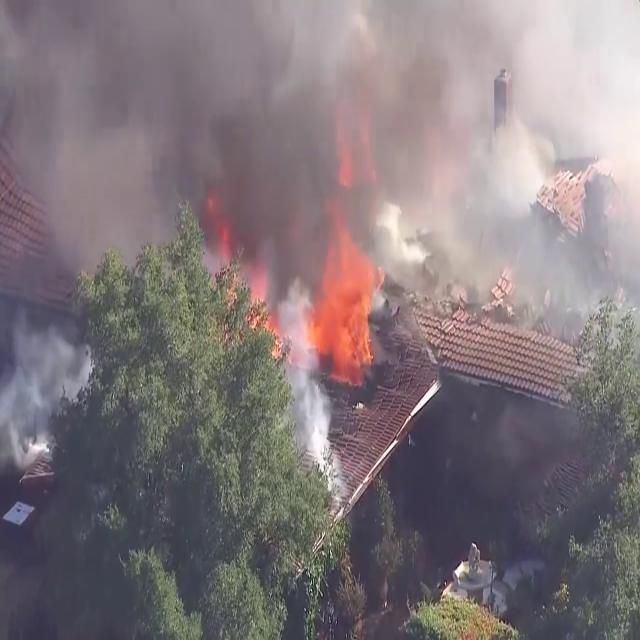Fire: (316, 185, 384, 374)
Smoke: (3, 1, 626, 347), (276, 280, 332, 463)
